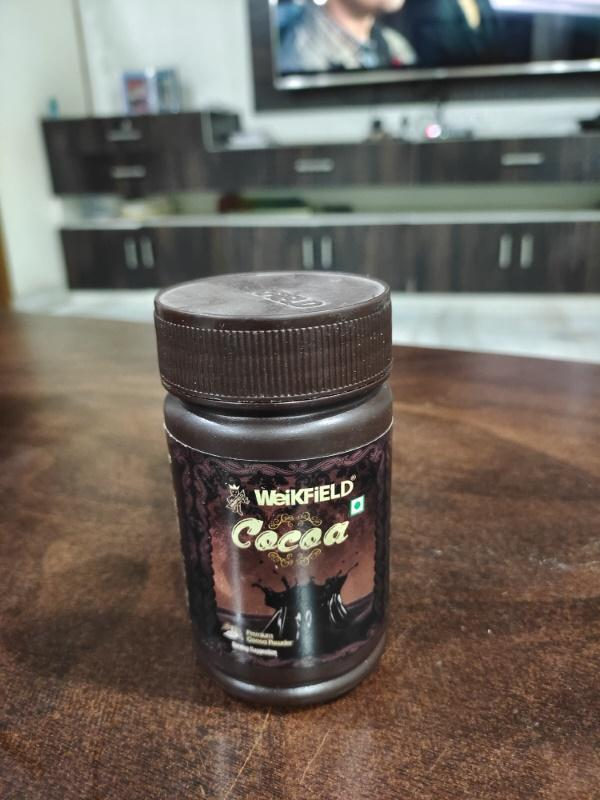Cocoa Powder: (143, 272, 420, 714)
